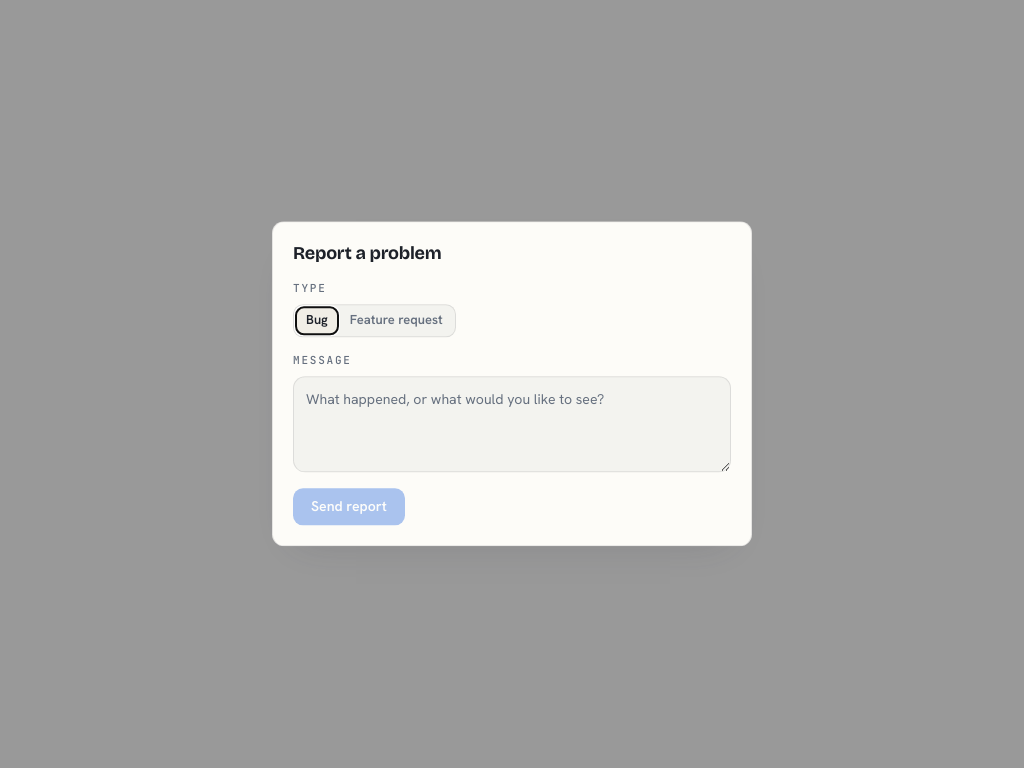
Test case: FeedbackDialog › submits the chosen type and message, then confirms
The image size is (1024, 768).
Click the button "Feature request" at (396, 321), box left=340, top=307, right=453, bottom=334
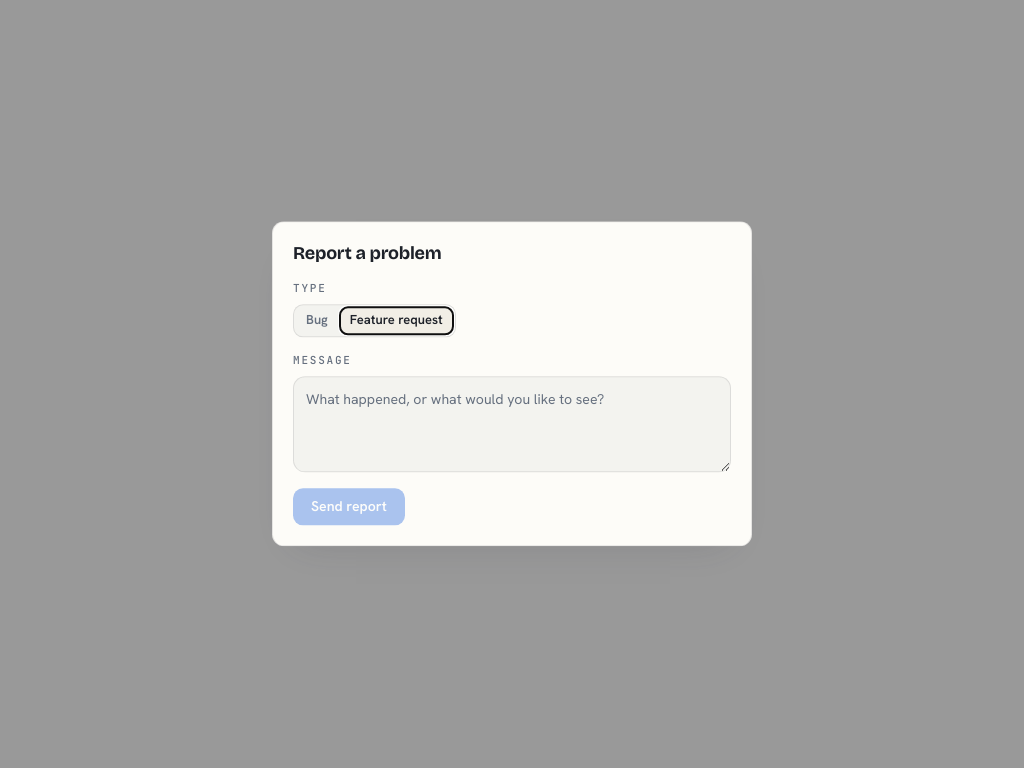
Type "An undo button would help" into the text box named "Message" at (512, 424), box left=293, top=376, right=731, bottom=472
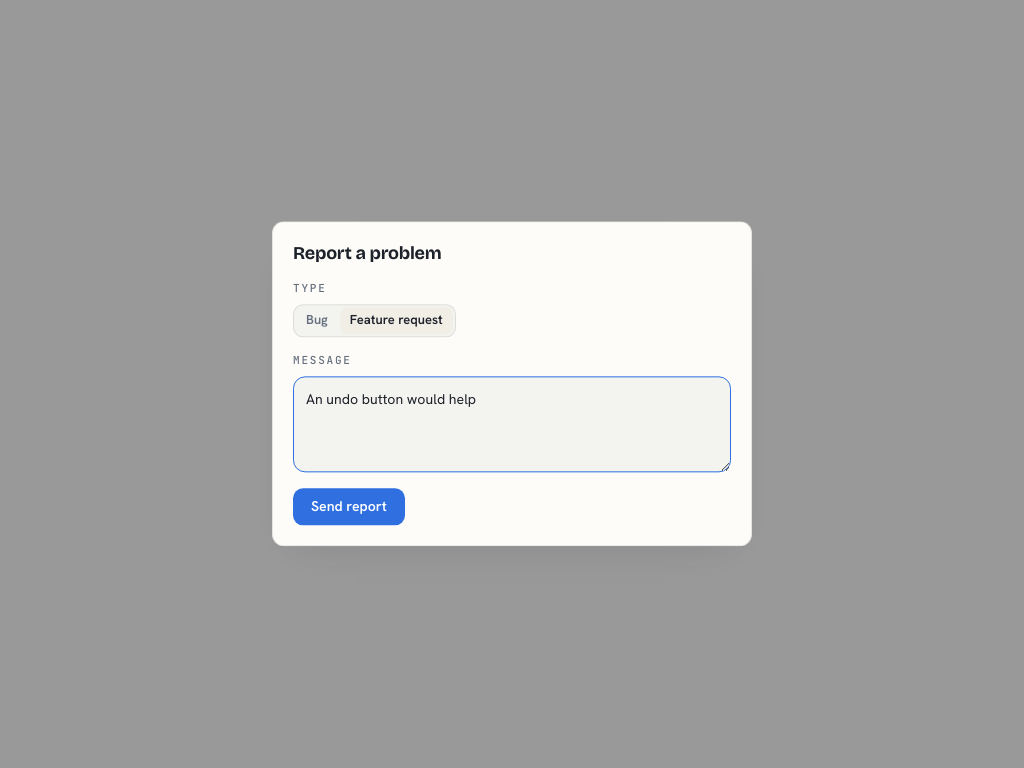
Click the button "Send report" at (349, 507), box left=293, top=488, right=405, bottom=526
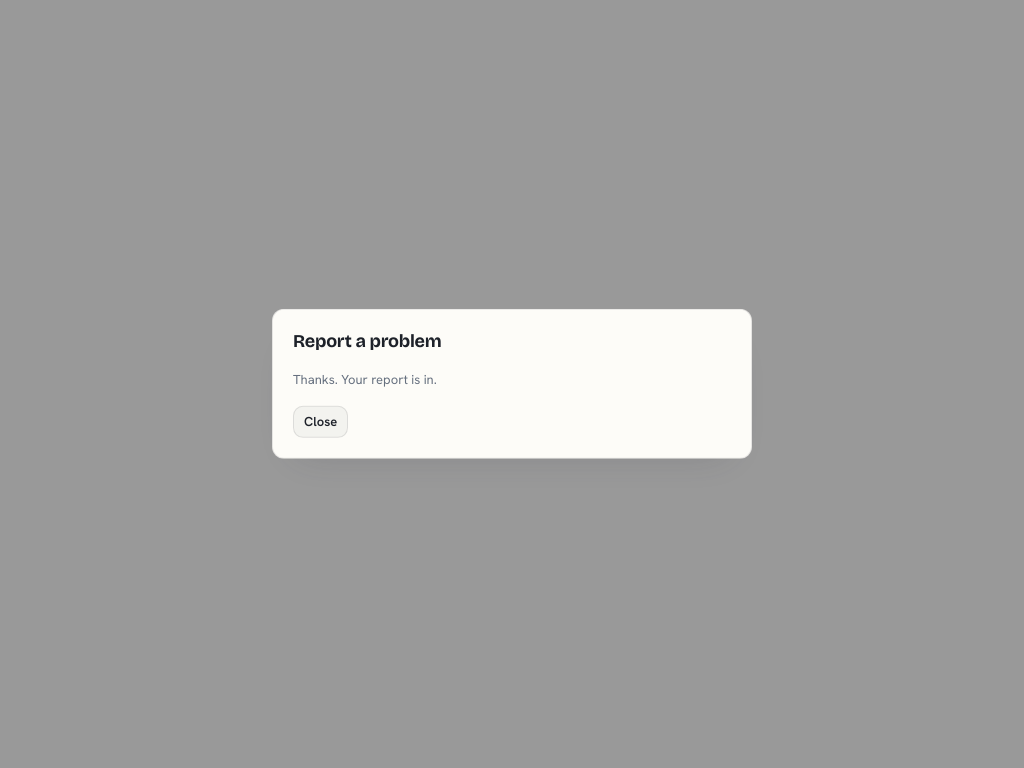
Expected: the text "Thanks. Your report is in." is shown, left=293, top=370, right=437, bottom=387
